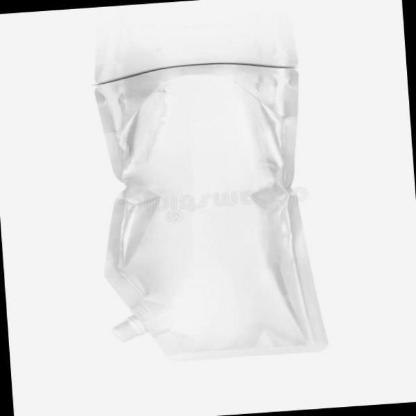Plastic Packaging: (96, 52, 330, 364)
